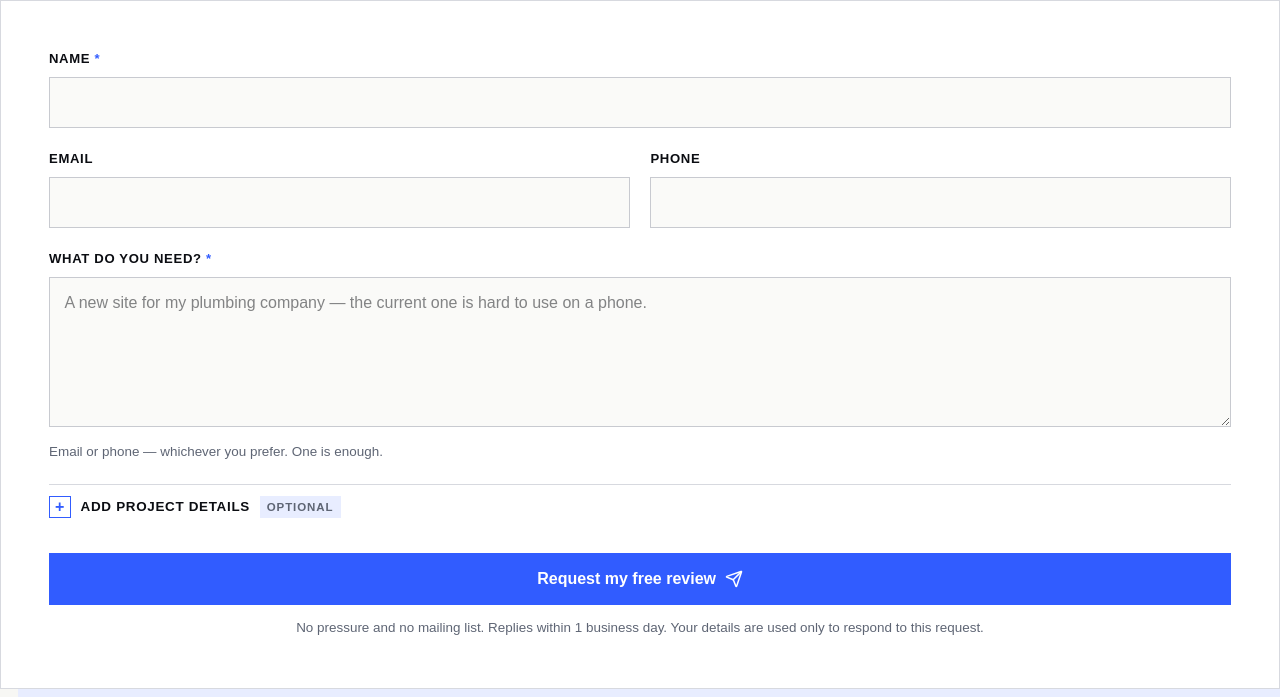
it: contact form › recovers from a network failure with no response to read
The width and height of the screenshot is (1280, 697).
In the field labelled "Name *": [640, 102] box [49, 77, 1231, 128], type "Jamie Rivera"
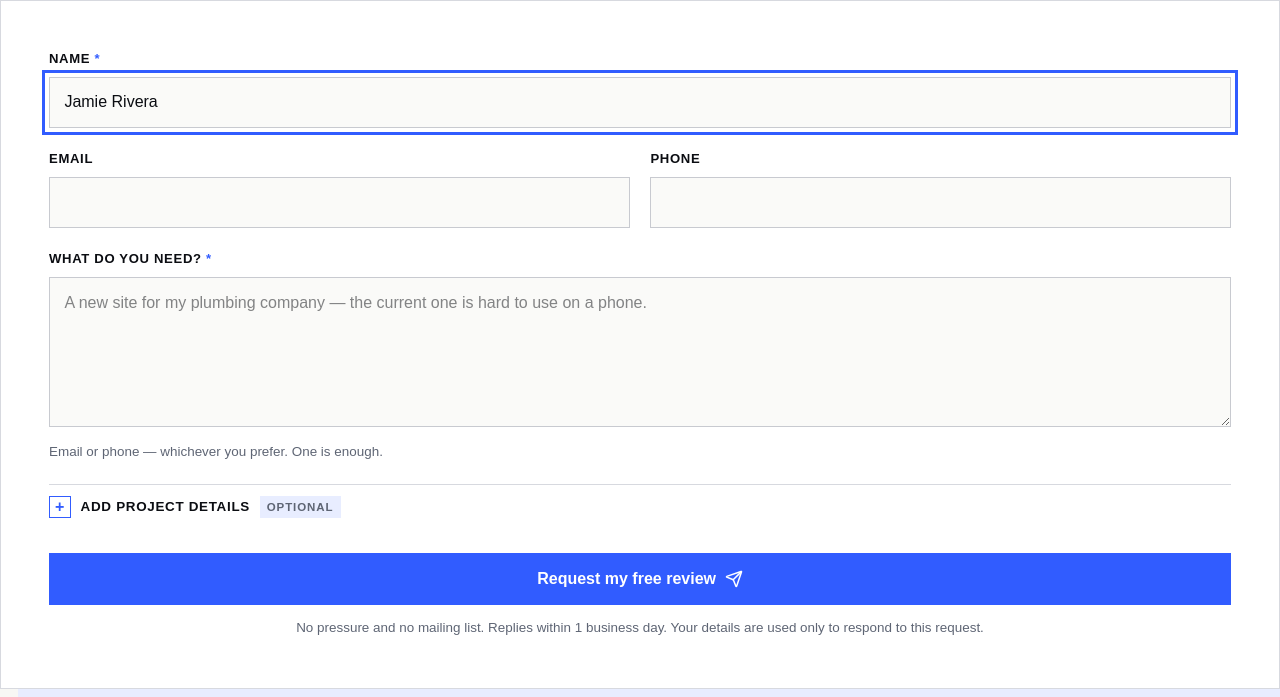
In the field labelled "Email": [339, 203] box [49, 177, 630, 228], type "jamie@example.com"
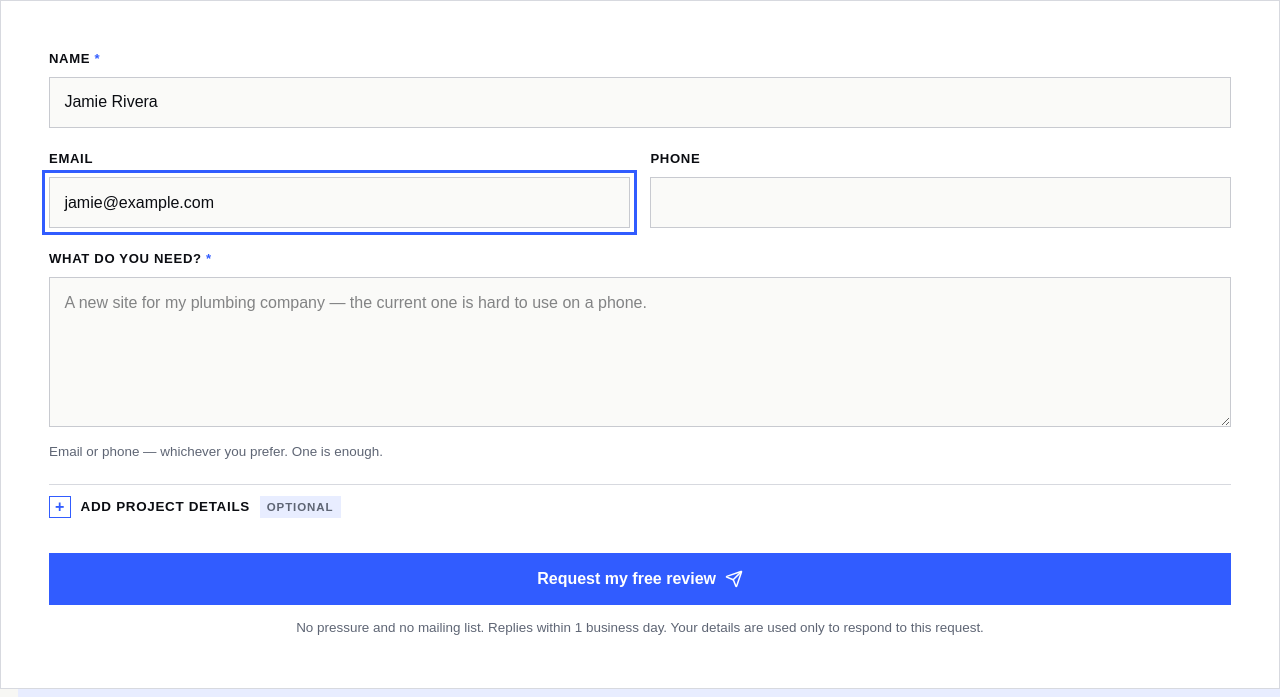
In the text box labelled "What do you need? *": [640, 352] box [49, 277, 1231, 427], type "We need a clear website for residential electrical services in Glendale."
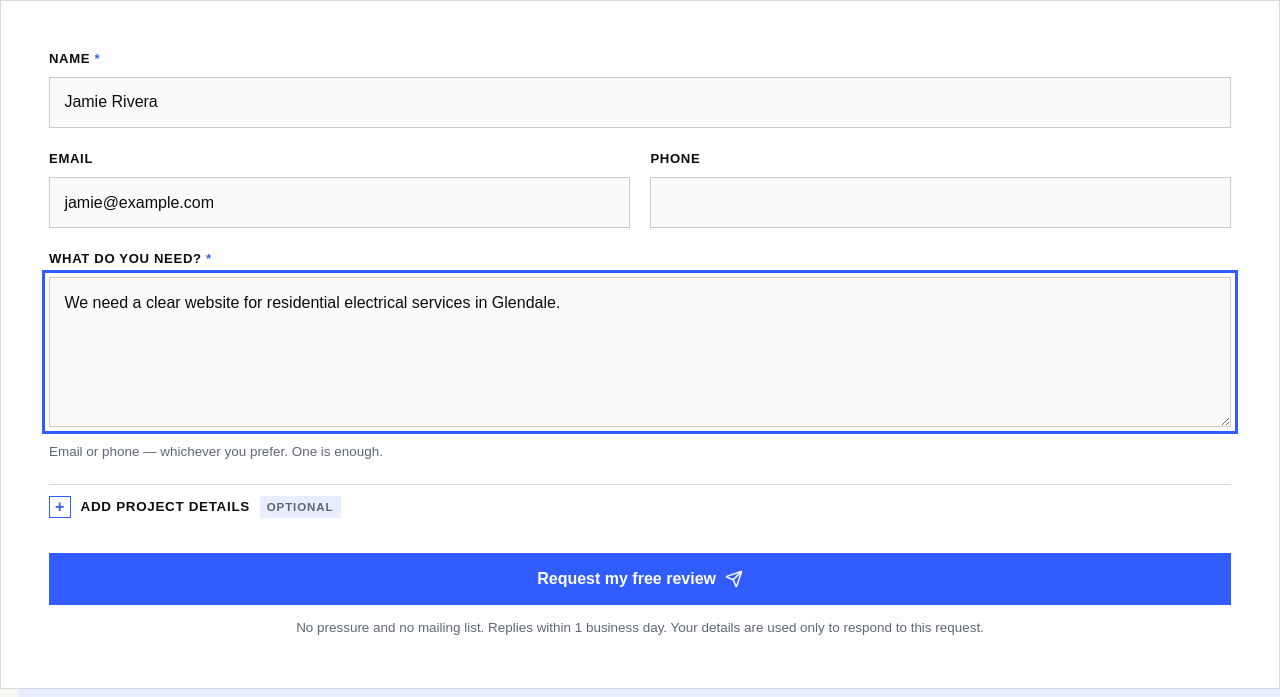
Click the button "Request my free review": [640, 579] box [49, 553, 1231, 605]
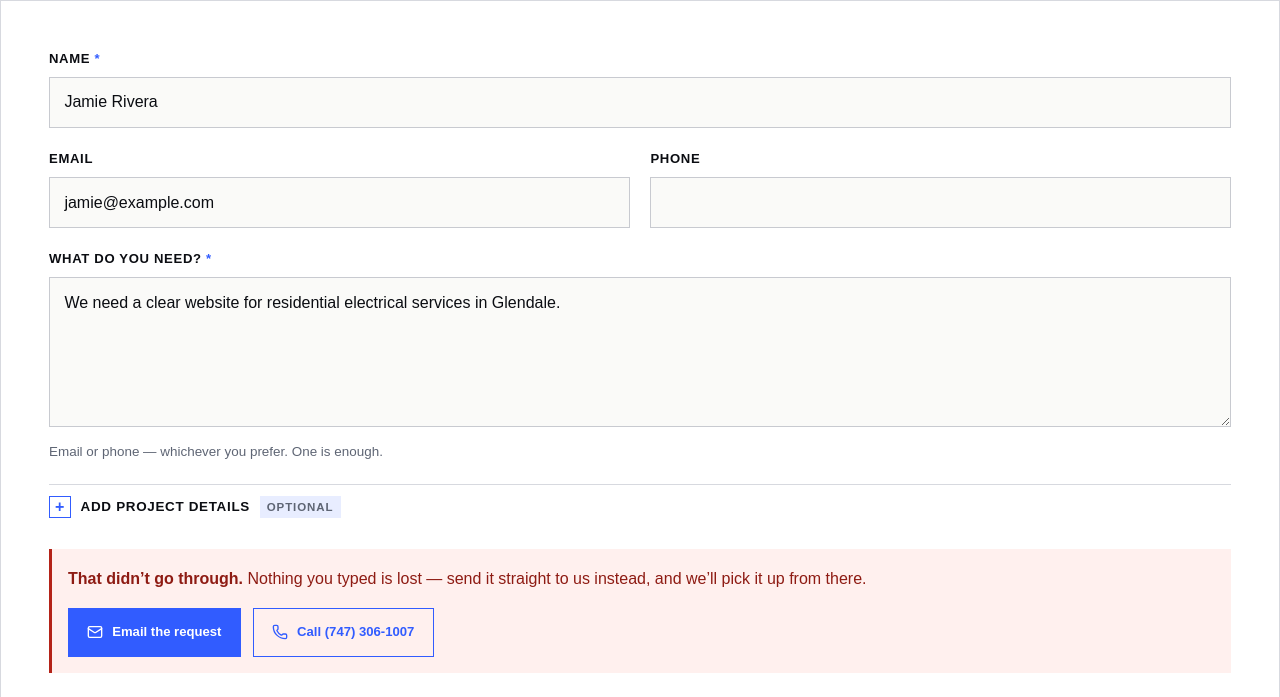
Now the link "Email the request" is shown, box [68, 608, 241, 657]
